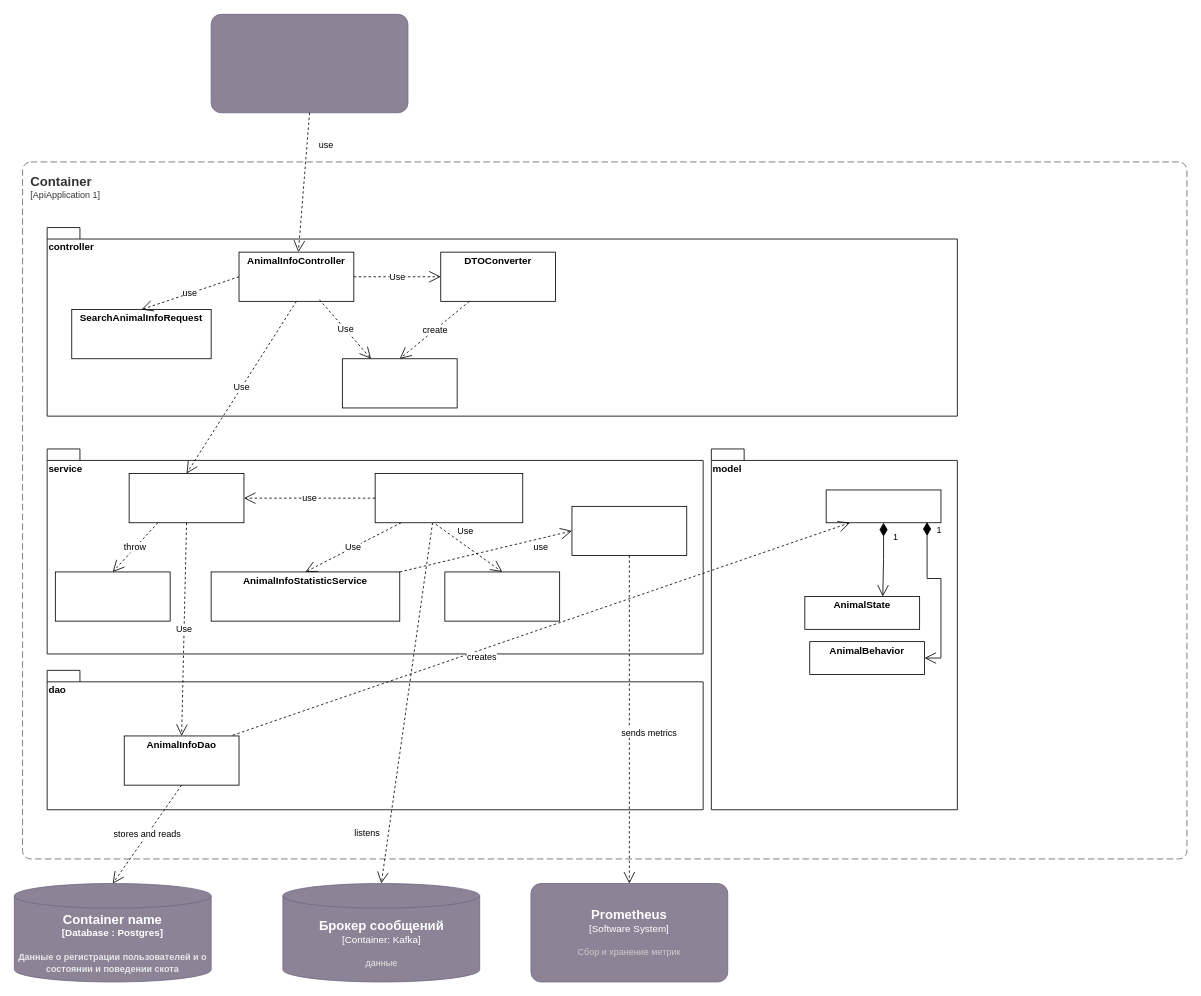
The diagram is 1201 pixels wide and 996 high, and some of its shapes have lost their labels. The shapes that lost their labels are listed below. From the top down, each one's centre as x and y in pixels, then its label:
pixel 309 63: WebPortal [Software System] react
pixel 399 383: AnimalInfoResponse
pixel 186 498: AnimalInfoService
pixel 448 498: AnimalEventListenerService
pixel 883 506: Animal
pixel 629 531: ActuatorService
pixel 112 596: AnimalInfoException
pixel 502 596: AnimalEventConverter
